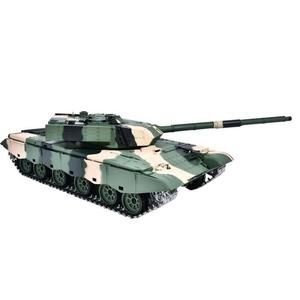Battle Tank: (1, 109, 292, 221)
